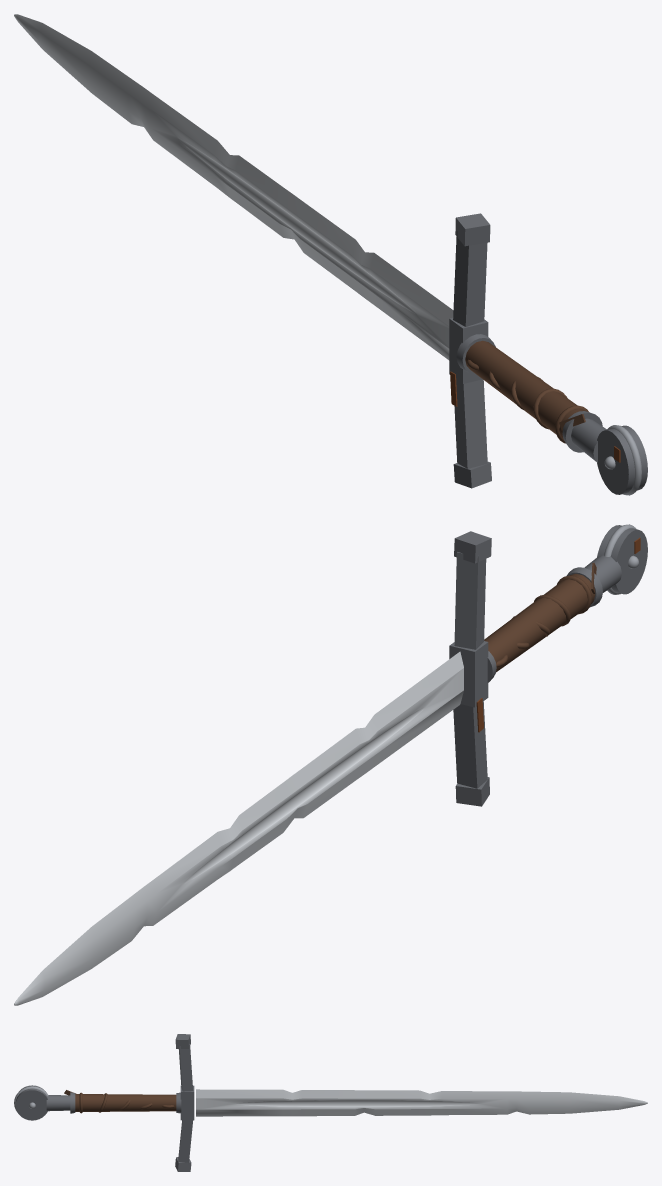
Rendered from ClassicSword.glb.
The picture shows the model from 3 angles, top to bottom: view 1: azimuth 30°, elevation 25°; view 2: azimuth 150°, elevation 25°; view 3: azimuth 270°, elevation 25°; orthographic projection. The views are drawn at different scales.
Visible parts, largest first — view 1: ClassicSword; view 2: ClassicSword; view 3: ClassicSword.
Boxes of the visible parts, box(x1,y1,x2,y2) form: ClassicSword: box(14, 14, 647, 495); ClassicSword: box(14, 524, 647, 1005); ClassicSword: box(14, 1034, 647, 1171).
Size of the model in its own units: 0.0344 by 0.2312 by 1.
Materials: 1 (1 with a texture image).
